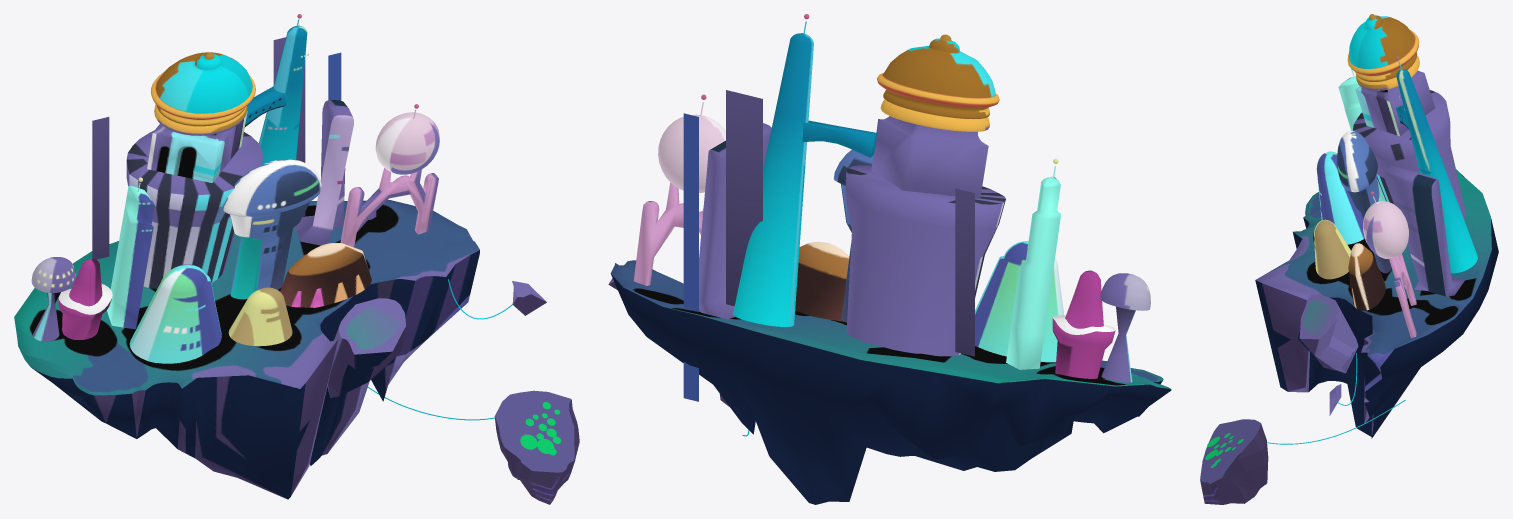
The model's file is castle_seperate_origin_seperate.glb.
The picture shows the model from 3 angles, left to right: view 1: azimuth 30°, elevation 25°; view 2: azimuth 150°, elevation 25°; view 3: azimuth 270°, elevation 25°; orthographic projection. The views are drawn at different scales.
Visible parts, largest first — view 1: Sphere.010, Sphere.013, Sphere.009, Sphere.018, Sphere.015, Sphere.031, Sphere.021, Sphere.016, Sphere.027, Sphere.014, Sphere.011, Sphere.019 (+8 smaller); view 2: Sphere.010, Sphere.013, Sphere.011, Sphere.023, Sphere.027, Sphere.015, Sphere.018, Sphere.019, Sphere.014, Sphere.024, Sphere.016, Sphere.022 (+3 smaller); view 3: Sphere.010, Sphere.013, Sphere.014, Sphere.031, Sphere.011, Sphere.021, Sphere.015, Sphere.009, Sphere.018, Sphere.016, Sphere.017, Sphere.027 (+1 smaller).
Boxes of the visible parts, bbox=[...] form: Sphere.010: bbox=[14, 53, 479, 499]; Sphere.013: bbox=[126, 52, 263, 288]; Sphere.009: bbox=[222, 159, 321, 299]; Sphere.018: bbox=[129, 264, 221, 363]; Sphere.015: bbox=[340, 109, 439, 246]; Sphere.031: bbox=[494, 390, 579, 504]; Sphere.021: bbox=[327, 298, 405, 397]; Sphere.016: bbox=[280, 243, 371, 307]; Sphere.027: bbox=[107, 183, 154, 329]; Sphere.014: bbox=[294, 100, 353, 245]; Sphere.011: bbox=[258, 19, 307, 164]; Sphere.019: bbox=[58, 258, 112, 339]; Sphere.010: bbox=[610, 260, 1171, 504]; Sphere.013: bbox=[845, 34, 1005, 356]; Sphere.011: bbox=[733, 21, 813, 326]; Sphere.023: bbox=[726, 90, 762, 306]; Sphere.027: bbox=[1006, 166, 1060, 369]; Sphere.015: bbox=[633, 102, 725, 285]; Sphere.018: bbox=[975, 241, 1064, 362]; Sphere.019: bbox=[1052, 270, 1115, 378]; Sphere.014: bbox=[699, 123, 771, 319]; Sphere.024: bbox=[683, 113, 698, 401]; Sphere.016: bbox=[795, 241, 849, 322]; Sphere.022: bbox=[955, 188, 974, 356]; Sphere.010: bbox=[1255, 95, 1498, 438]; Sphere.013: bbox=[1347, 14, 1465, 219]; Sphere.014: bbox=[1386, 164, 1464, 296]; Sphere.031: bbox=[1200, 419, 1268, 504]; Sphere.011: bbox=[1396, 61, 1477, 273]; Sphere.021: bbox=[1297, 294, 1358, 373]; Sphere.015: bbox=[1362, 196, 1416, 337]; Sphere.009: bbox=[1337, 131, 1391, 273]; Sphere.018: bbox=[1316, 151, 1364, 244]; Sphere.016: bbox=[1348, 243, 1385, 310]; Sphere.017: bbox=[1314, 219, 1351, 279]; Sphere.027: bbox=[1338, 68, 1385, 201].
Bounding box in the file's own units: 3.25 × 2.76 × 1.92.
Materials: 1 (1 with a texture image).
